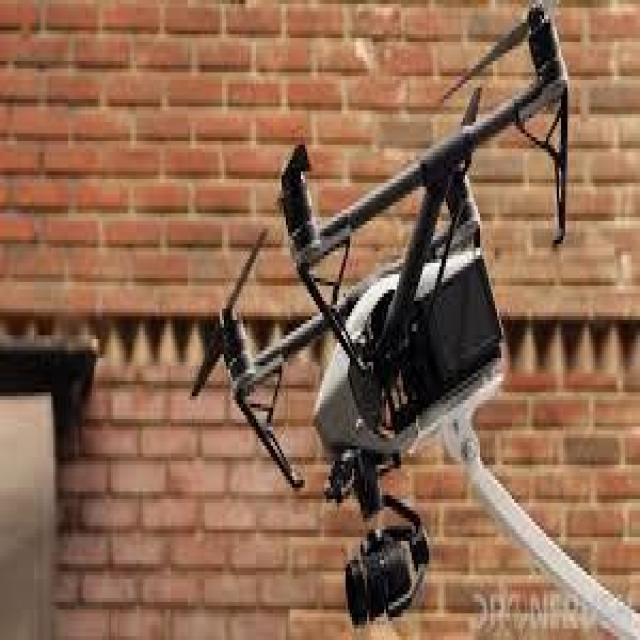drones: (200, 7, 578, 640)
